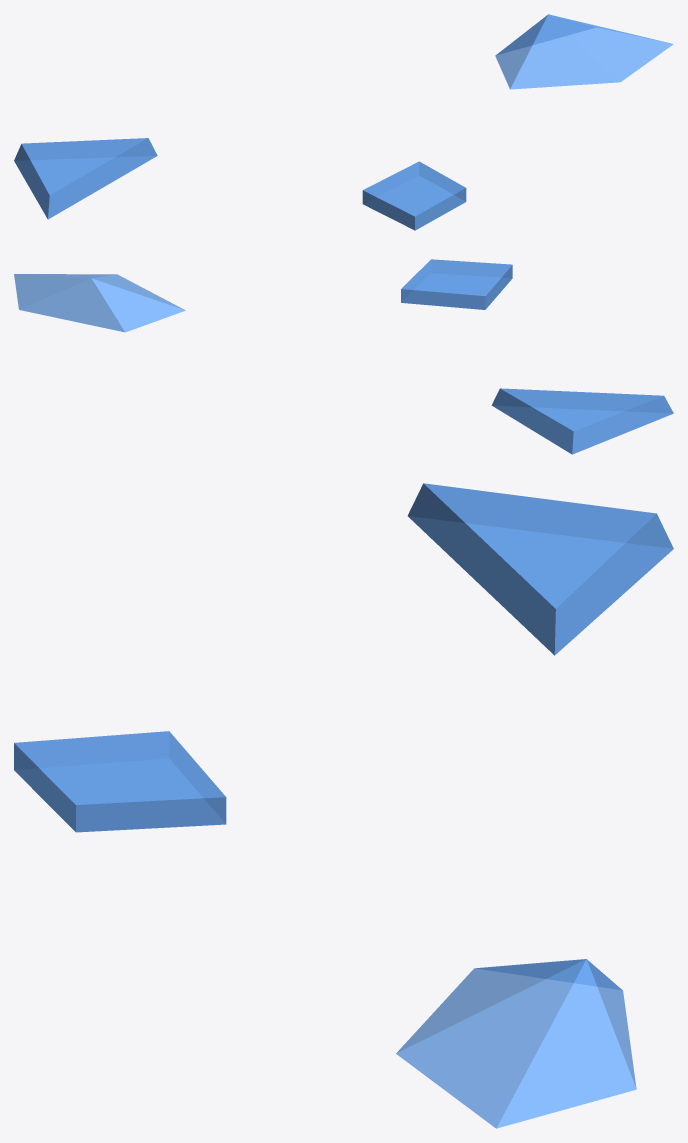
The model's file is Crystals_s_04.fbx.
The picture shows the model from 3 angles, top to bottom: view 1: azimuth 30°, elevation 25°; view 2: azimuth 150°, elevation 25°; view 3: azimuth 270°, elevation 25°; orthographic projection. The views are drawn at different scales.
Parts seen in each view (by area): view 1: Crystals_s_04; view 2: Crystals_s_04; view 3: Crystals_s_04.
Boxes of the visible parts, x1,y1,x2,y2 form: Crystals_s_04: (14, 14, 673, 230); Crystals_s_04: (14, 259, 673, 454); Crystals_s_04: (14, 483, 673, 1128).
Size of the model in its own units: 74.69 by 4.37 by 33.94.
